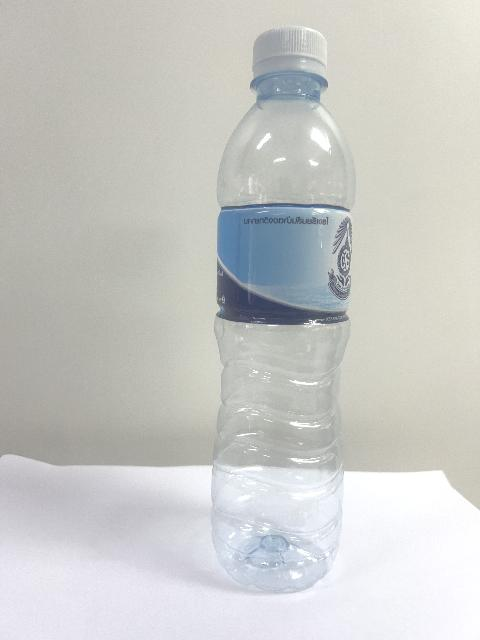bottle: (211, 27, 354, 591)
